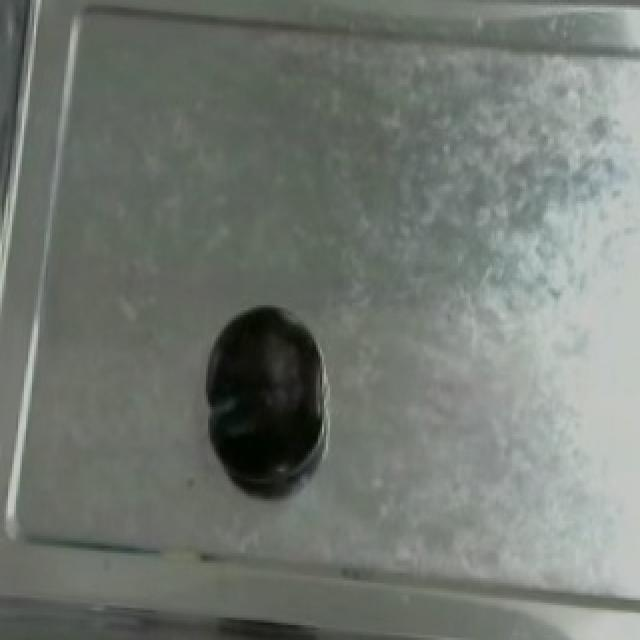Fruit: (200, 297, 328, 488)
